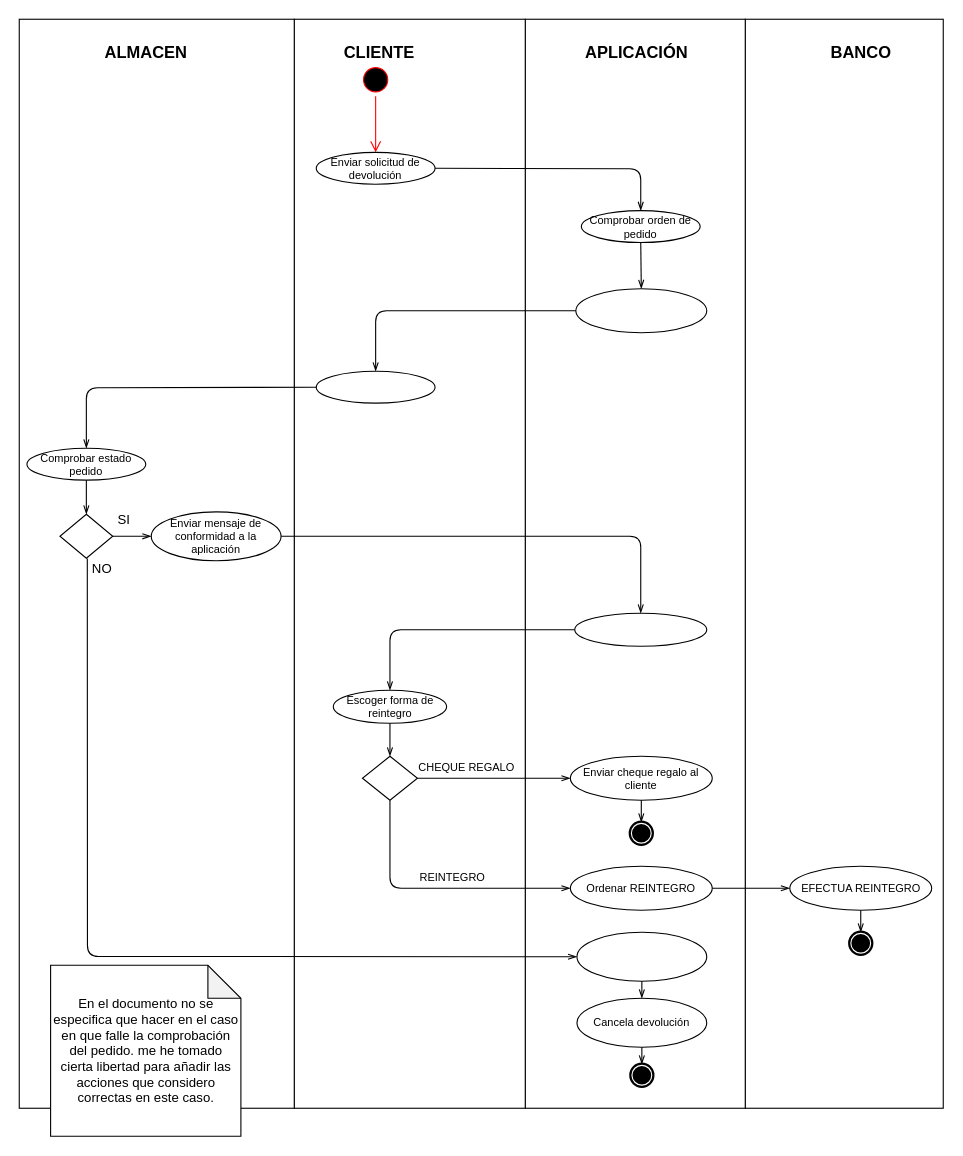
This 963x1156 diagram has some shape labels left out. Here are the shapes that lost their labels. From the top down, the centre of each, then its label:
the point at 641,310: Enviar Número de devolución al cliente
the point at 375,386: Enviar pedido a almacén
the point at 86,535: CORRECTO
the point at 640,629: SOLICITAR TIPO DE DEVOLUCIÓN
the point at 641,956: Avisa de fallo a cliente
